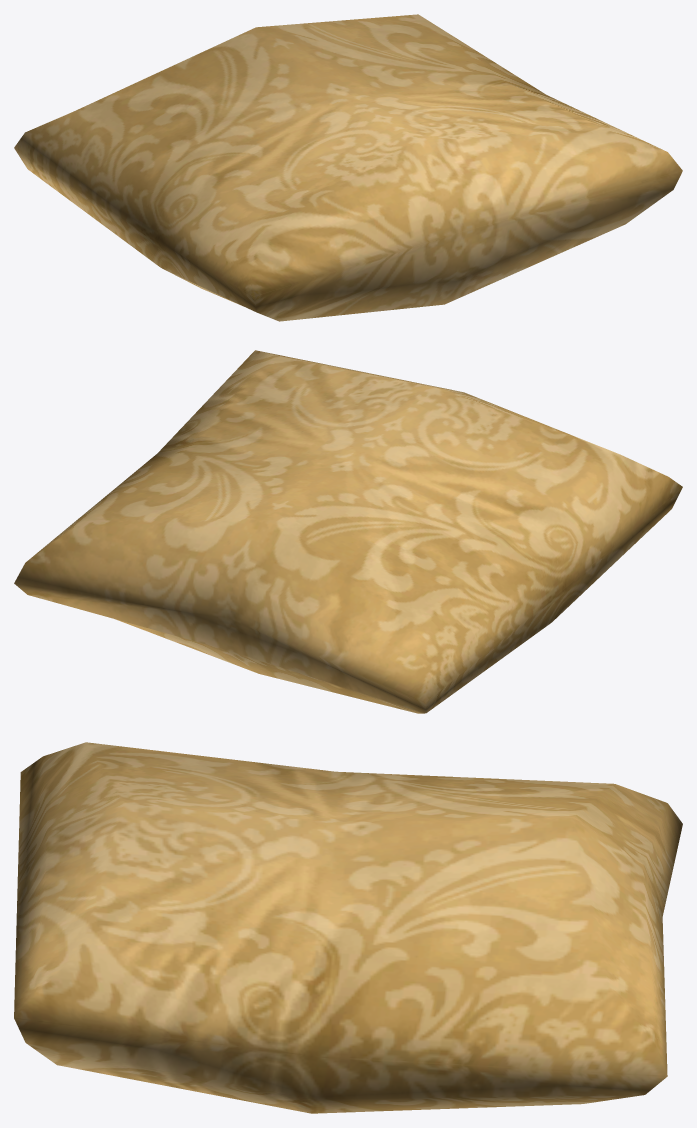
Rendered from dub_lounge_pillow01_lod1.glb.
3 renders of one model, top to bottom at view 1: azimuth 30°, elevation 25°; view 2: azimuth 150°, elevation 25°; view 3: azimuth 270°, elevation 25°, orthographic. The views are drawn at different scales.
Parts seen in each view (by area): view 1: surf0; view 2: surf0; view 3: surf0.
Boxes of the visible parts, left/top/right/bottom form: surf0: left=14, top=14, right=682, bottom=321; surf0: left=14, top=350, right=682, bottom=713; surf0: left=14, top=742, right=682, bottom=1113.
Size of the model in its own units: 26.25 by 11.08 by 26.74.
